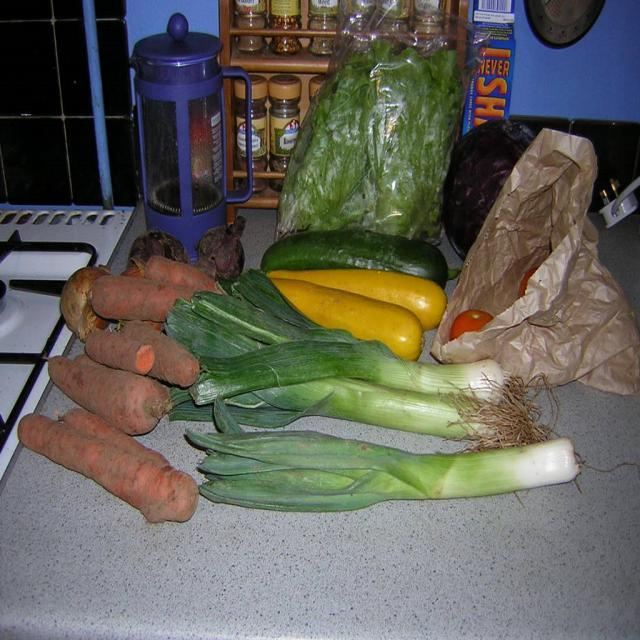Zucchini: (257, 279, 421, 361), (255, 260, 445, 329), (257, 225, 449, 289)
